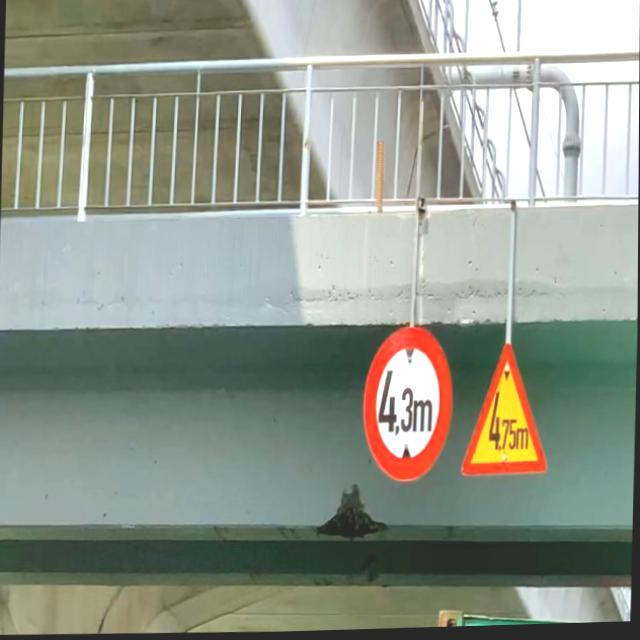Chieu cao an toan: (460, 336, 553, 484)
Han che chieu cao: (358, 327, 462, 486)
